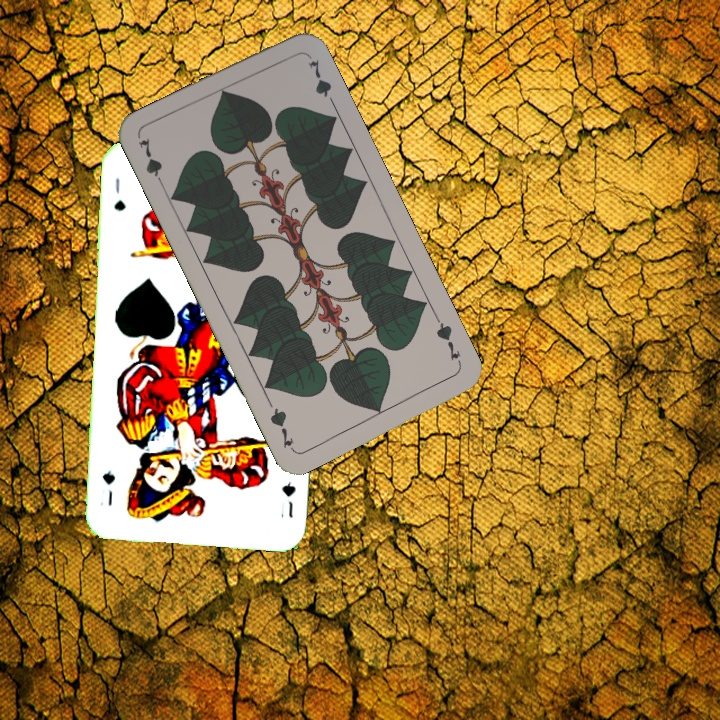G7: (135, 133, 168, 191), (431, 314, 465, 369)
GU: (276, 478, 298, 521), (110, 174, 128, 213)
